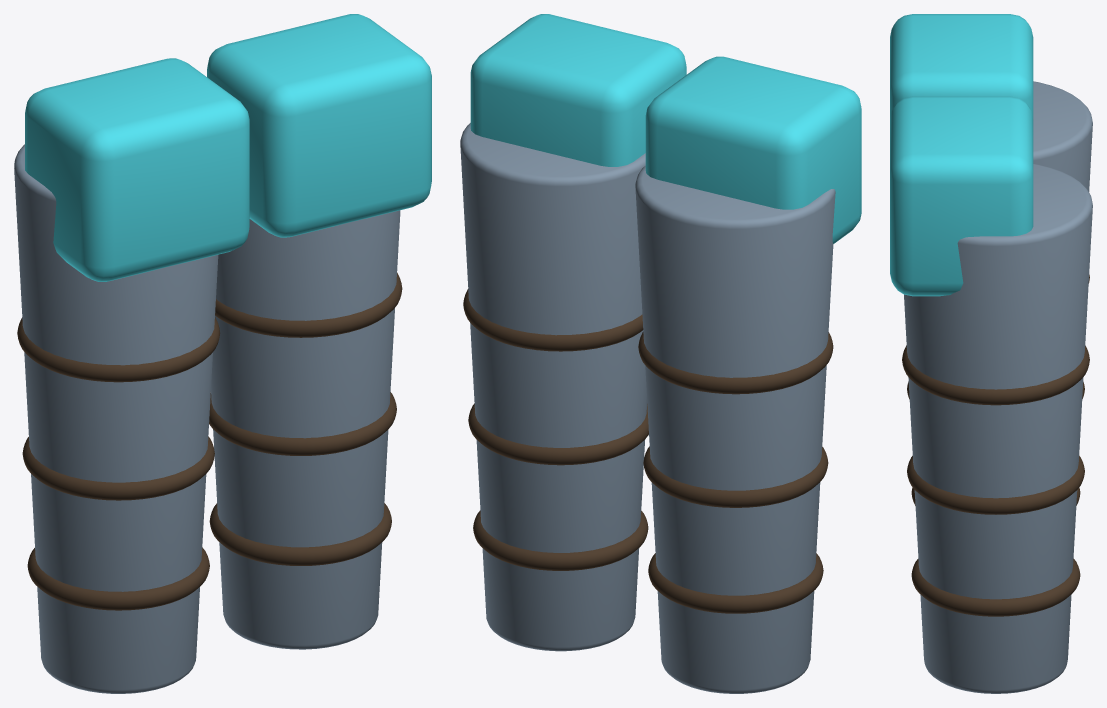
Rendered from greaves.glb.
3 renders of one model, left to right at view 1: azimuth 30°, elevation 25°; view 2: azimuth 150°, elevation 25°; view 3: azimuth 270°, elevation 25°, orthographic. The views are drawn at different scales.
Visible parts, largest first — view 1: GREAVE_PRIMARY, GREAVE_PRIMARY.001, KNEE_ACCENT, KNEE_ACCENT.001, GREAVE_BAND_SECONDARY, GREAVE_BAND_SECONDARY.001, GREAVE_BAND_SECONDARY.003, GREAVE_BAND_SECONDARY.002, GREAVE_BAND_SECONDARY.004, GREAVE_BAND_SECONDARY.005; view 2: GREAVE_PRIMARY, GREAVE_PRIMARY.001, KNEE_ACCENT, KNEE_ACCENT.001, GREAVE_BAND_SECONDARY, GREAVE_BAND_SECONDARY.001, GREAVE_BAND_SECONDARY.003, GREAVE_BAND_SECONDARY.002, GREAVE_BAND_SECONDARY.004, GREAVE_BAND_SECONDARY.005; view 3: GREAVE_PRIMARY.001, KNEE_ACCENT.001, KNEE_ACCENT, GREAVE_PRIMARY, GREAVE_BAND_SECONDARY.003, GREAVE_BAND_SECONDARY.004, GREAVE_BAND_SECONDARY.005.
Boxes of the visible parts, box(x1,y1,x2,y2) form: GREAVE_PRIMARY: box(14, 144, 218, 693); GREAVE_PRIMARY.001: box(211, 210, 400, 649); KNEE_ACCENT: box(25, 58, 249, 281); KNEE_ACCENT.001: box(207, 14, 431, 237); GREAVE_BAND_SECONDARY: box(27, 547, 209, 610); GREAVE_BAND_SECONDARY.001: box(22, 436, 214, 500); GREAVE_BAND_SECONDARY.003: box(209, 503, 391, 565); GREAVE_BAND_SECONDARY.002: box(17, 317, 220, 382); GREAVE_BAND_SECONDARY.004: box(209, 392, 396, 455); GREAVE_BAND_SECONDARY.005: box(215, 272, 402, 337); GREAVE_PRIMARY: box(635, 166, 835, 693); GREAVE_PRIMARY.001: box(460, 123, 647, 651); KNEE_ACCENT: box(645, 56, 861, 243); KNEE_ACCENT.001: box(470, 14, 686, 166); GREAVE_BAND_SECONDARY: box(648, 553, 823, 613); GREAVE_BAND_SECONDARY.001: box(643, 446, 828, 507); GREAVE_BAND_SECONDARY.003: box(473, 510, 648, 570); GREAVE_BAND_SECONDARY.002: box(638, 332, 833, 394); GREAVE_BAND_SECONDARY.004: box(468, 403, 648, 465); GREAVE_BAND_SECONDARY.005: box(463, 289, 643, 351); GREAVE_PRIMARY.001: box(904, 163, 1092, 693); KNEE_ACCENT.001: box(890, 96, 1033, 296); KNEE_ACCENT: box(890, 14, 1033, 118); GREAVE_PRIMARY: box(1033, 81, 1092, 191); GREAVE_BAND_SECONDARY.003: box(911, 558, 1080, 616); GREAVE_BAND_SECONDARY.004: box(907, 456, 1084, 514); GREAVE_BAND_SECONDARY.005: box(902, 345, 1089, 405).
Size of the model in its own units: 1.36 by 2.08 by 0.7088.
